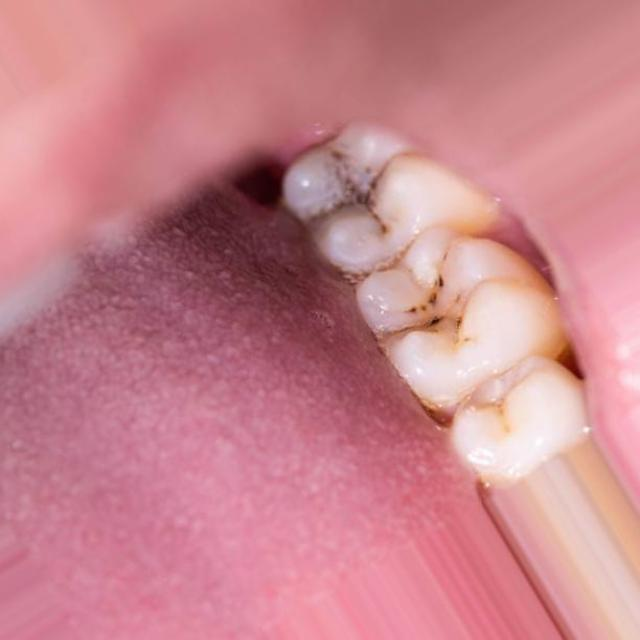caries: (316, 154, 405, 246), (396, 270, 480, 348)
